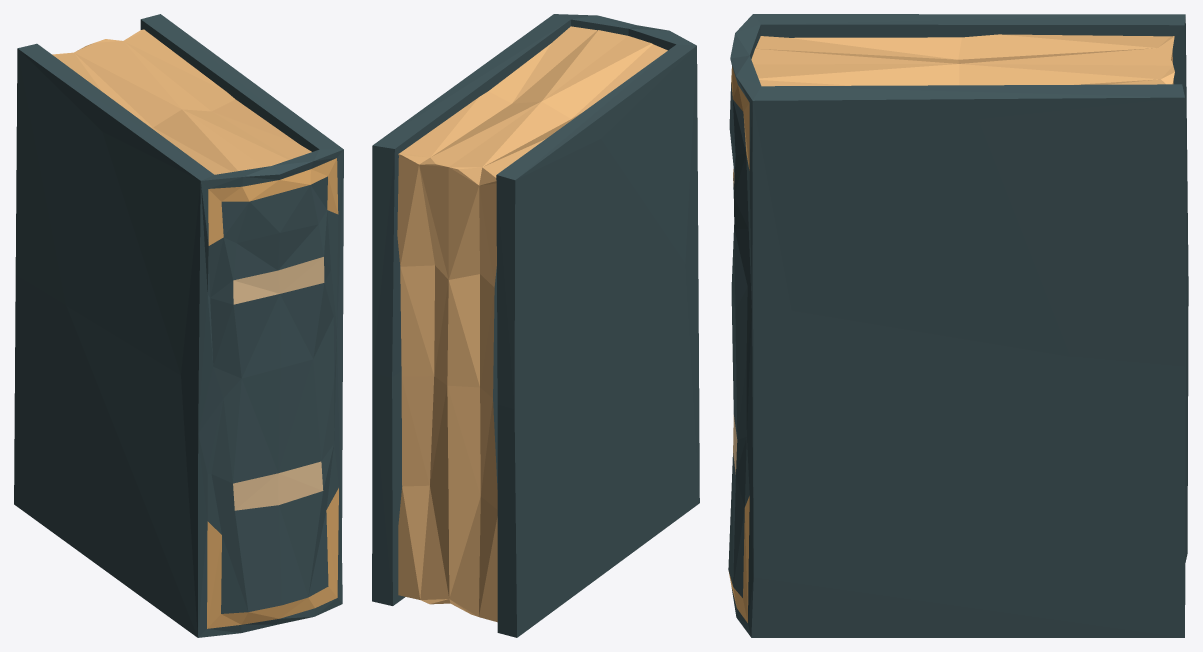
Rendered from Book_011.fbx.
3 views of the same model, side by side, from view 1: azimuth 30°, elevation 25°; view 2: azimuth 150°, elevation 25°; view 3: azimuth 270°, elevation 25° (orthographic). The views are drawn at different scales.
Parts seen in each view (by area): view 1: Book_011; view 2: Book_011; view 3: Book_011.
Boxes of the visible parts, x1,y1,x2,y2 form: Book_011: (14,14,343,637); Book_011: (372,14,699,637); Book_011: (728,14,1188,637).
Size of the model in its own units: 0.106 by 0.3153 by 0.2418.
